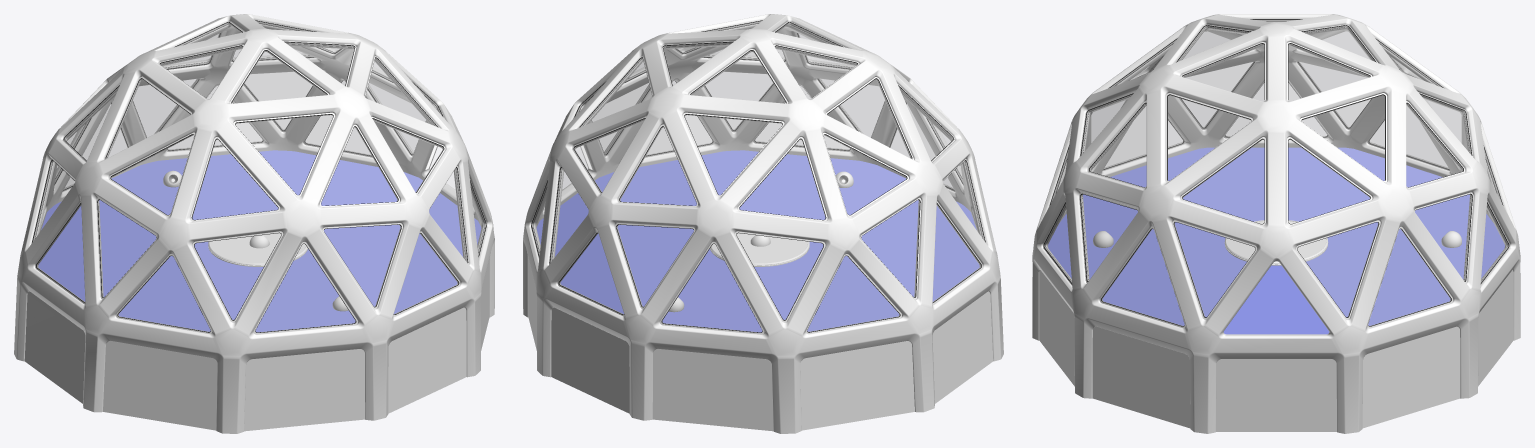
Rendered from show2.glb.
The picture shows the model from 3 angles, left to right: view 1: azimuth 30°, elevation 25°; view 2: azimuth 150°, elevation 25°; view 3: azimuth 270°, elevation 25°; orthographic projection. The views are drawn at different scales.
Parts seen in each view (by area): view 1: Kuppel 2_14, Boden Kuppel 2_3, object 5; view 2: Kuppel 2_14, Boden Kuppel 2_3, object 5; view 3: Kuppel 2_14, Boden Kuppel 2_3, object 5.
Part boxes in pixels (box(x1,y1,x2,y2)): Kuppel 2_14: box(14, 14, 494, 433); Boden Kuppel 2_3: box(38, 150, 481, 332); object 5: box(208, 233, 307, 266); Kuppel 2_14: box(523, 14, 1003, 433); Boden Kuppel 2_3: box(536, 150, 979, 332); object 5: box(710, 233, 809, 266); Kuppel 2_14: box(1032, 14, 1520, 433); Boden Kuppel 2_3: box(1048, 147, 1504, 334); object 5: box(1224, 220, 1328, 265).
Size of the model in its own units: 46.9 by 32.69 by 47.21.
